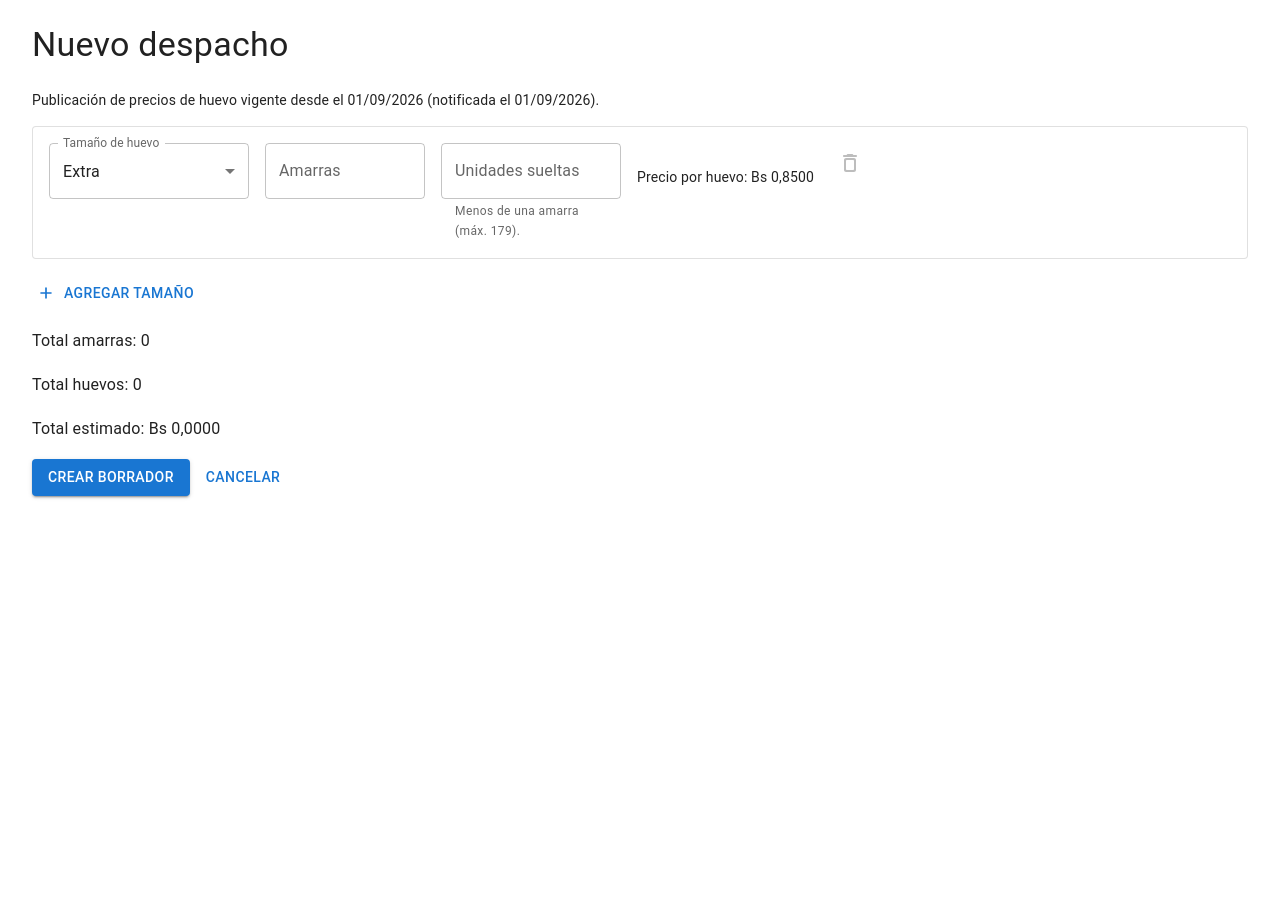
DespachoHuevoFormularioPage › rechaza tamaños duplicados
Type "1" into the number field labelled "Amarras". click: (345, 171)
box: [265, 143, 425, 199]
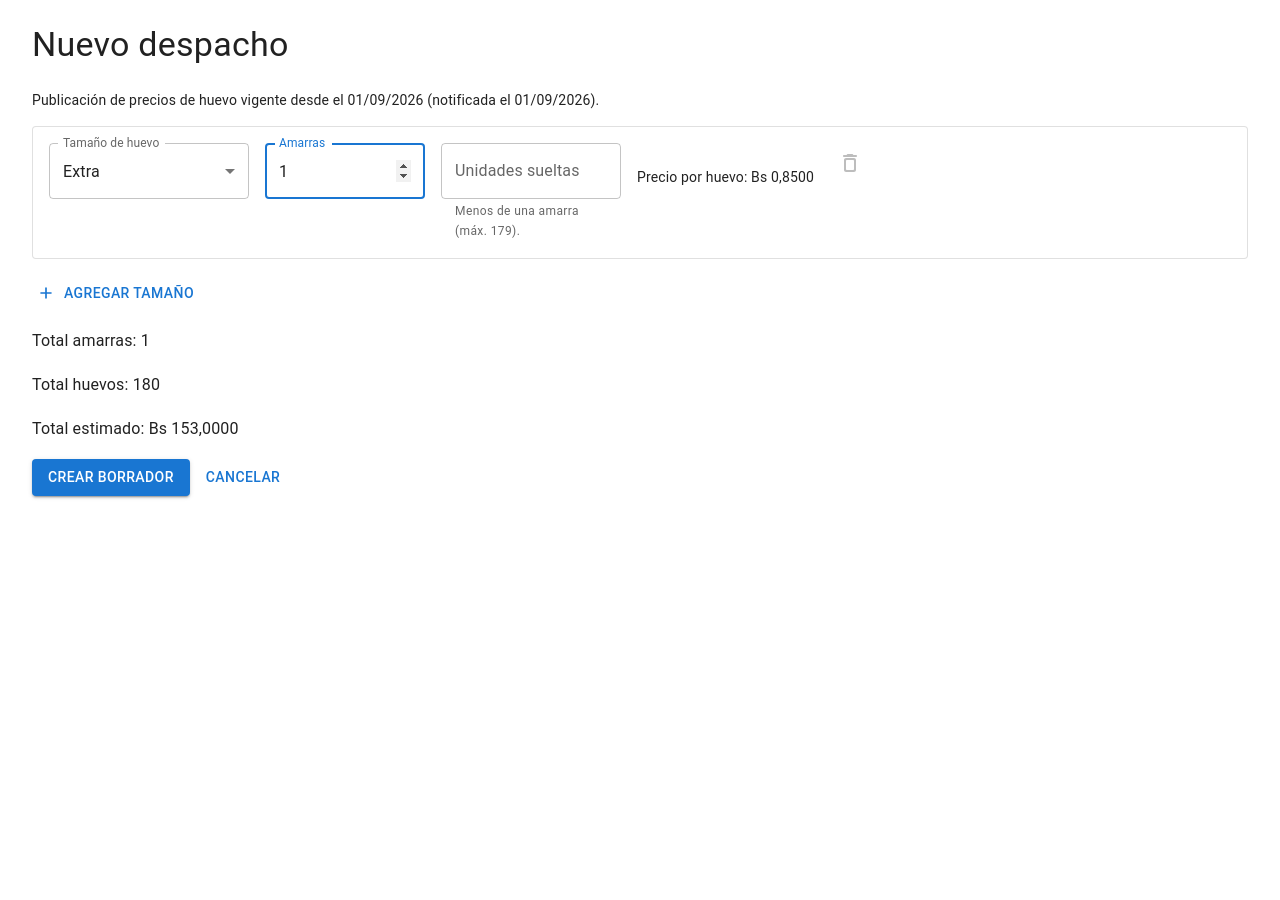
Click the button "Agregar tamaño". click: (117, 293)
box: [32, 275, 202, 311]
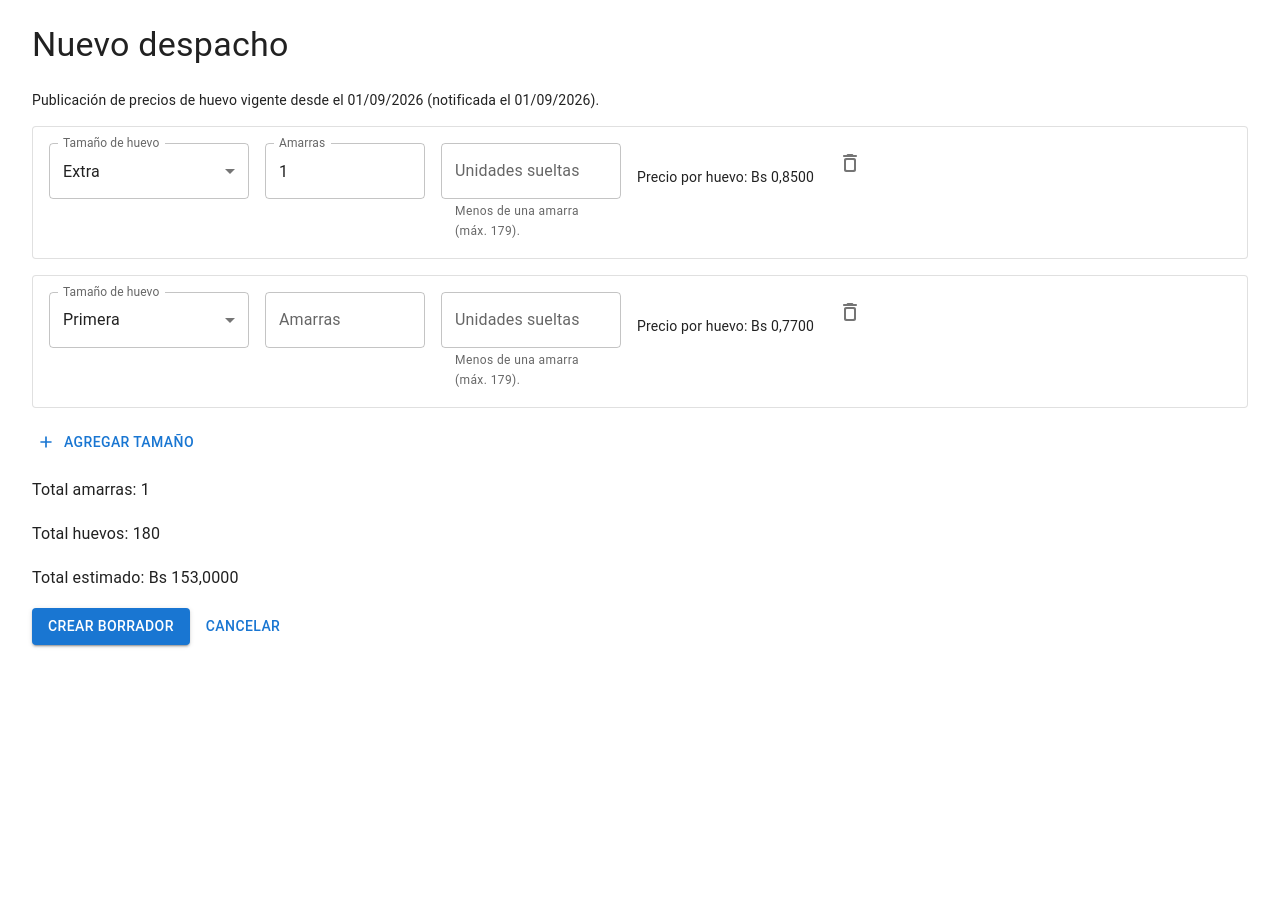
Click the dropdown named "Tamaño de huevo". click: (91, 320)
box: [63, 310, 120, 329]
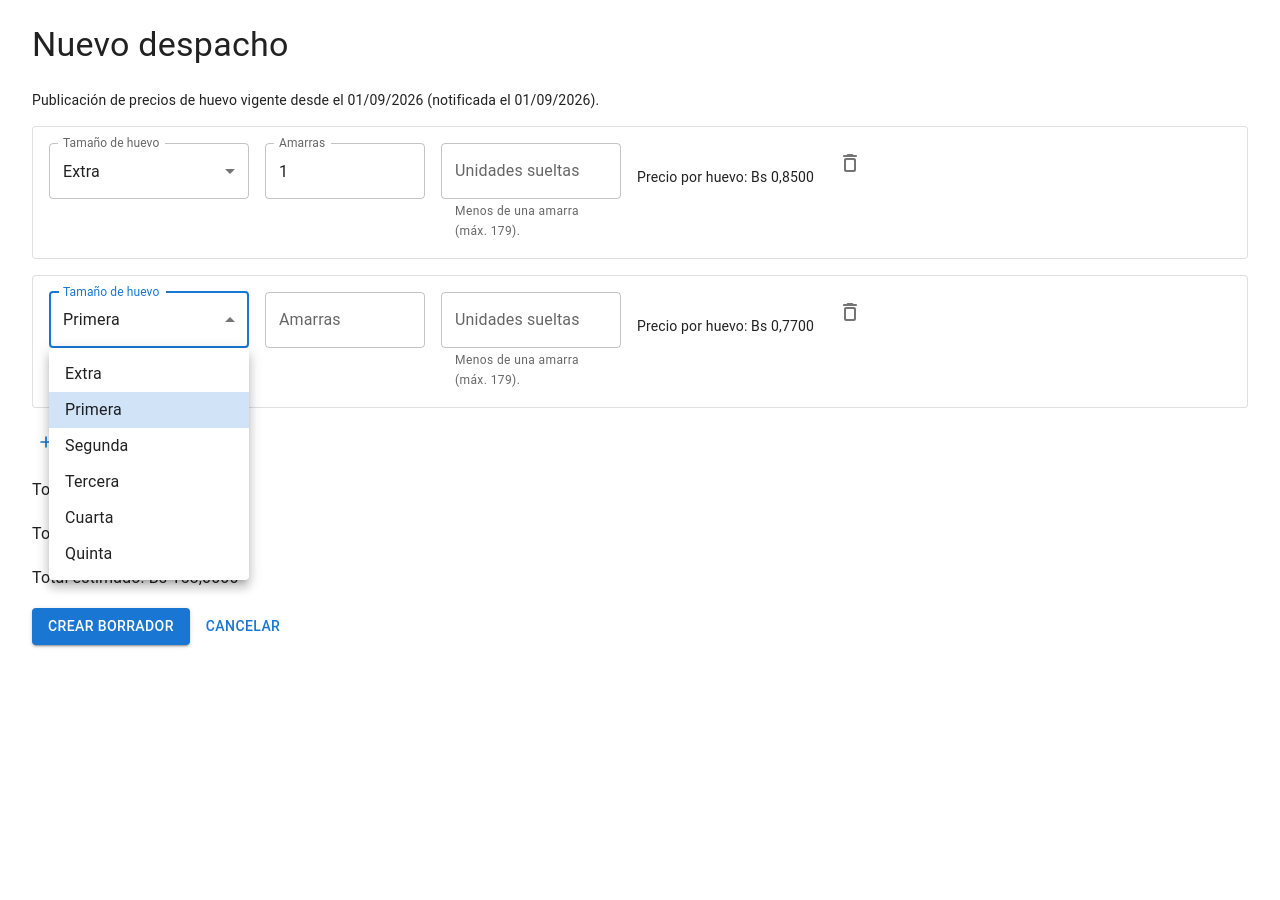
Click the option "Extra". click: (83, 374)
box: [65, 364, 102, 383]
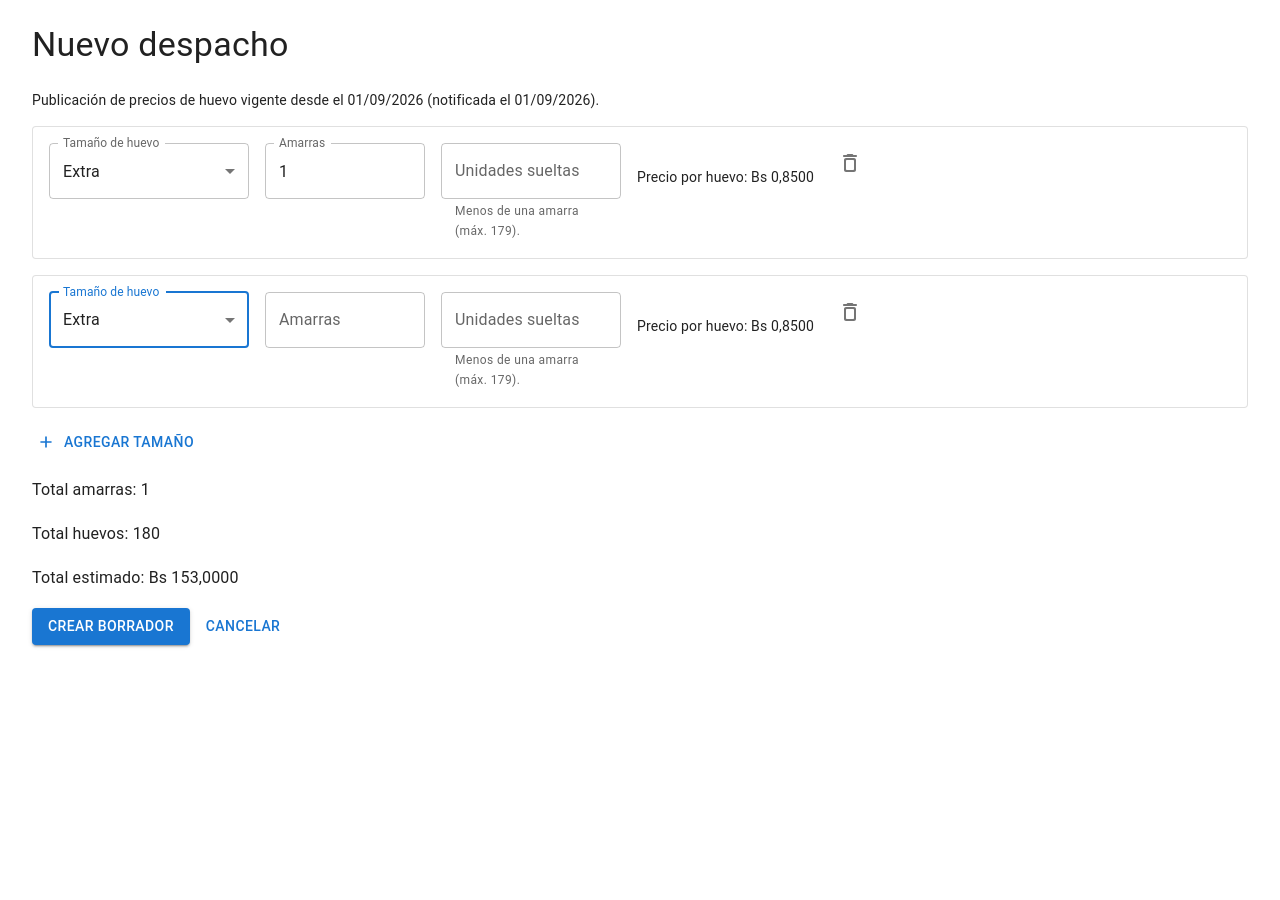
Type "1" into the 2nd number field labelled "Amarras". click: (345, 320)
box: [265, 292, 425, 348]
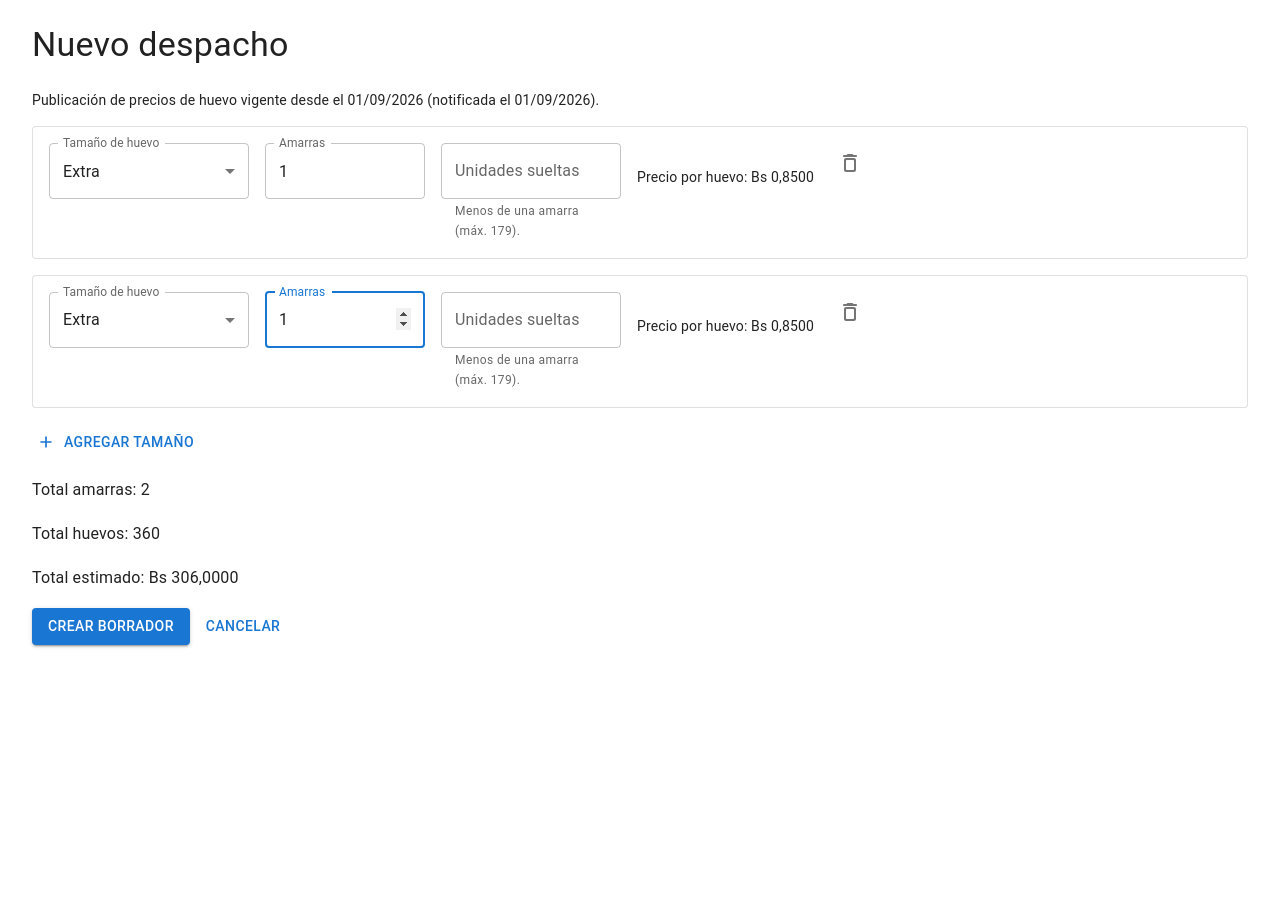
Click the button "Crear borrador". click: (111, 626)
box: [32, 608, 190, 645]
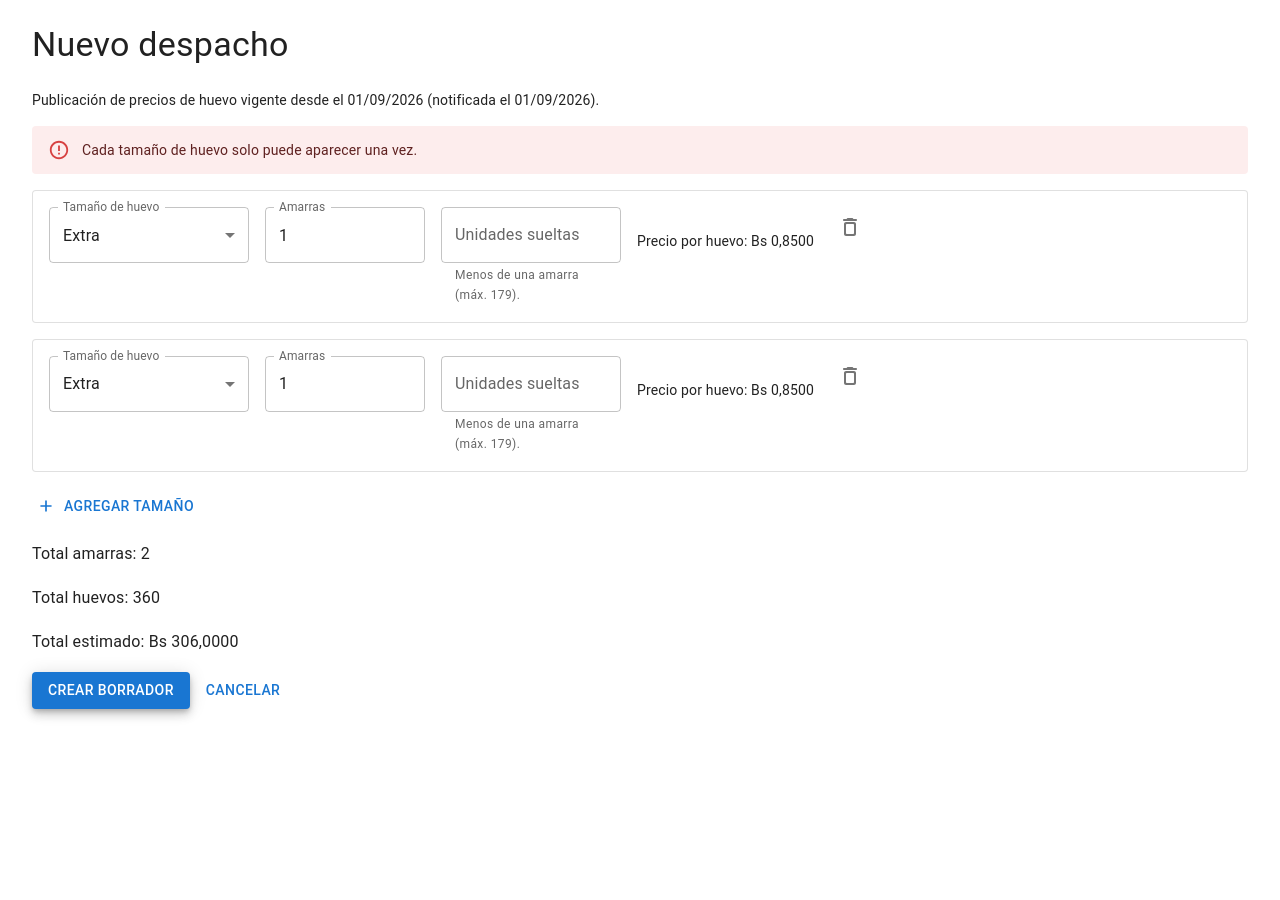
Expected: the text "Cada tamaño de huevo solo puede aparecer una vez." is shown, [82, 142, 417, 158]
